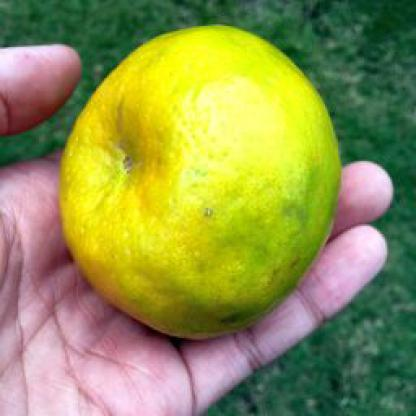orange_rotten: (52, 21, 346, 343)
